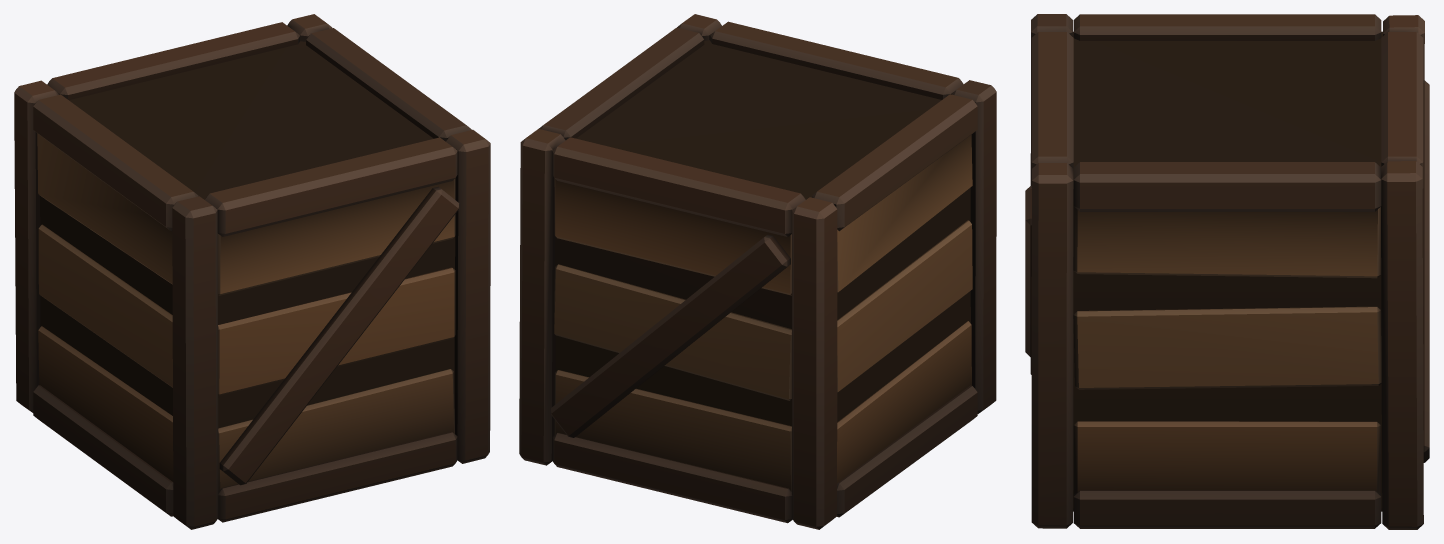
File: HD_Crate.glb
The picture shows the model from 3 angles, left to right: view 1: azimuth 30°, elevation 25°; view 2: azimuth 150°, elevation 25°; view 3: azimuth 270°, elevation 25°; orthographic projection. The views are drawn at different scales.
Visible parts, largest first — view 1: HD_Crate_1_Wood; view 2: HD_Crate_1_Wood; view 3: HD_Crate_1_Wood.
Boxes of the visible parts, bbox=[...] form: HD_Crate_1_Wood: bbox=[14, 14, 490, 529]; HD_Crate_1_Wood: bbox=[519, 14, 996, 529]; HD_Crate_1_Wood: bbox=[1025, 14, 1429, 529].
Bounding box in the file's own units: 3.01 × 3.01 × 3.1.
